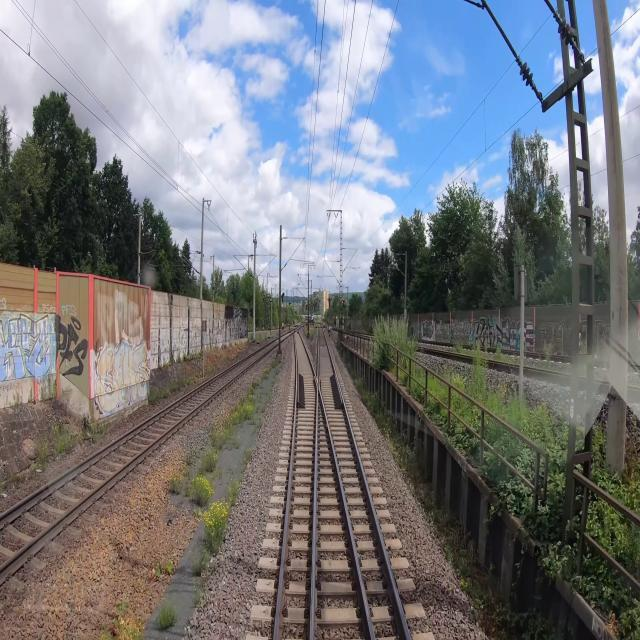Plant: (168, 359, 283, 517), (191, 477, 242, 579), (102, 599, 146, 639), (154, 561, 175, 579), (158, 606, 174, 627), (242, 445, 252, 461), (194, 588, 202, 604)
